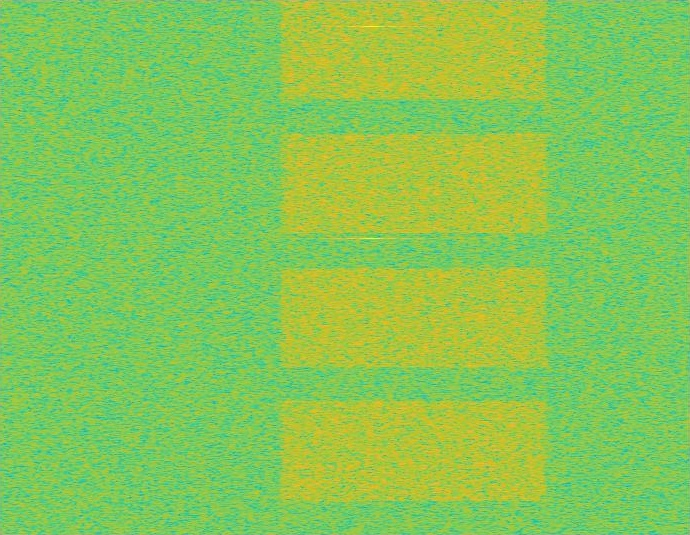5G: (276, 0, 552, 534)
Radar: (365, 0, 379, 534)
